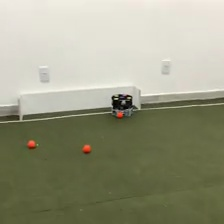ball: (81, 142, 92, 153), (26, 138, 36, 149), (116, 109, 124, 119)
goal: (18, 86, 142, 123)
robot: (111, 91, 134, 117)
